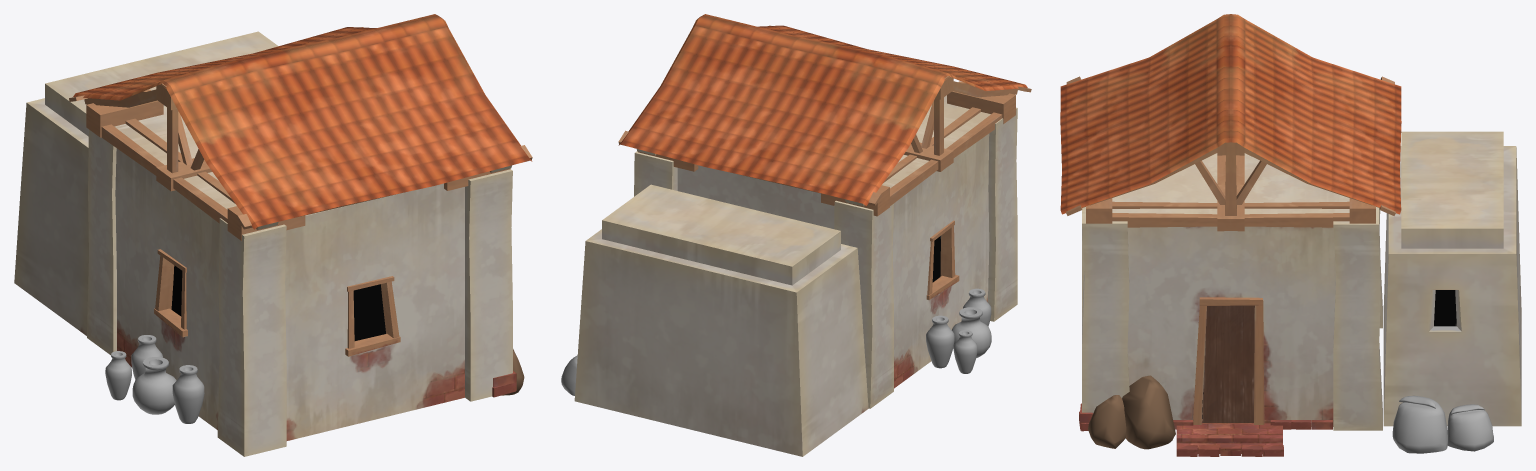
The model's file is SM_house_1.fbx.
The picture shows the model from 3 angles, left to right: view 1: azimuth 30°, elevation 25°; view 2: azimuth 150°, elevation 25°; view 3: azimuth 270°, elevation 25°; orthographic projection. The views are drawn at different scales.
Visible parts, largest first — view 1: side17, polySurface1067, polySurface1068, polySurface1070, polySurface1069; view 2: side17, polySurface1069, polySurface1067, polySurface1070, polySurface1068; view 3: side17, polySurface1065, SM_Bag_023, SM_Bag_024, polySurface1066.
Part boxes in pixels (x1,y1,x2,y2): side17: (14, 14, 532, 456); polySurface1067: (132, 357, 176, 414); polySurface1068: (172, 365, 204, 423); polySurface1070: (105, 351, 131, 400); polySurface1069: (131, 335, 162, 379); side17: (574, 14, 1031, 456); polySurface1069: (926, 315, 954, 368); polySurface1067: (952, 307, 991, 357); polySurface1070: (953, 330, 977, 373); polySurface1068: (963, 288, 991, 326); side17: (1060, 14, 1521, 453); polySurface1065: (1122, 375, 1175, 449); SM_Bag_023: (1392, 395, 1447, 453); SM_Bag_024: (1447, 404, 1493, 451); polySurface1066: (1088, 395, 1126, 448).
Bounding box in the file's own units: 6.01 × 5.42 × 7.27.
